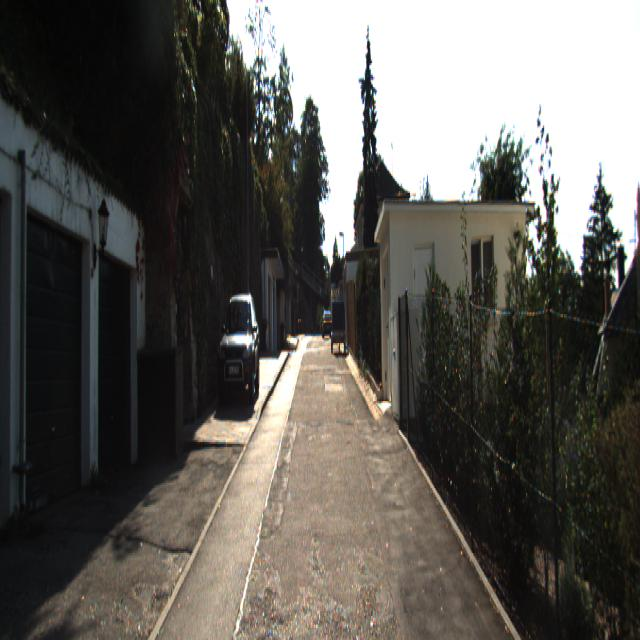Car: (214, 296, 260, 404), (331, 300, 347, 354)
